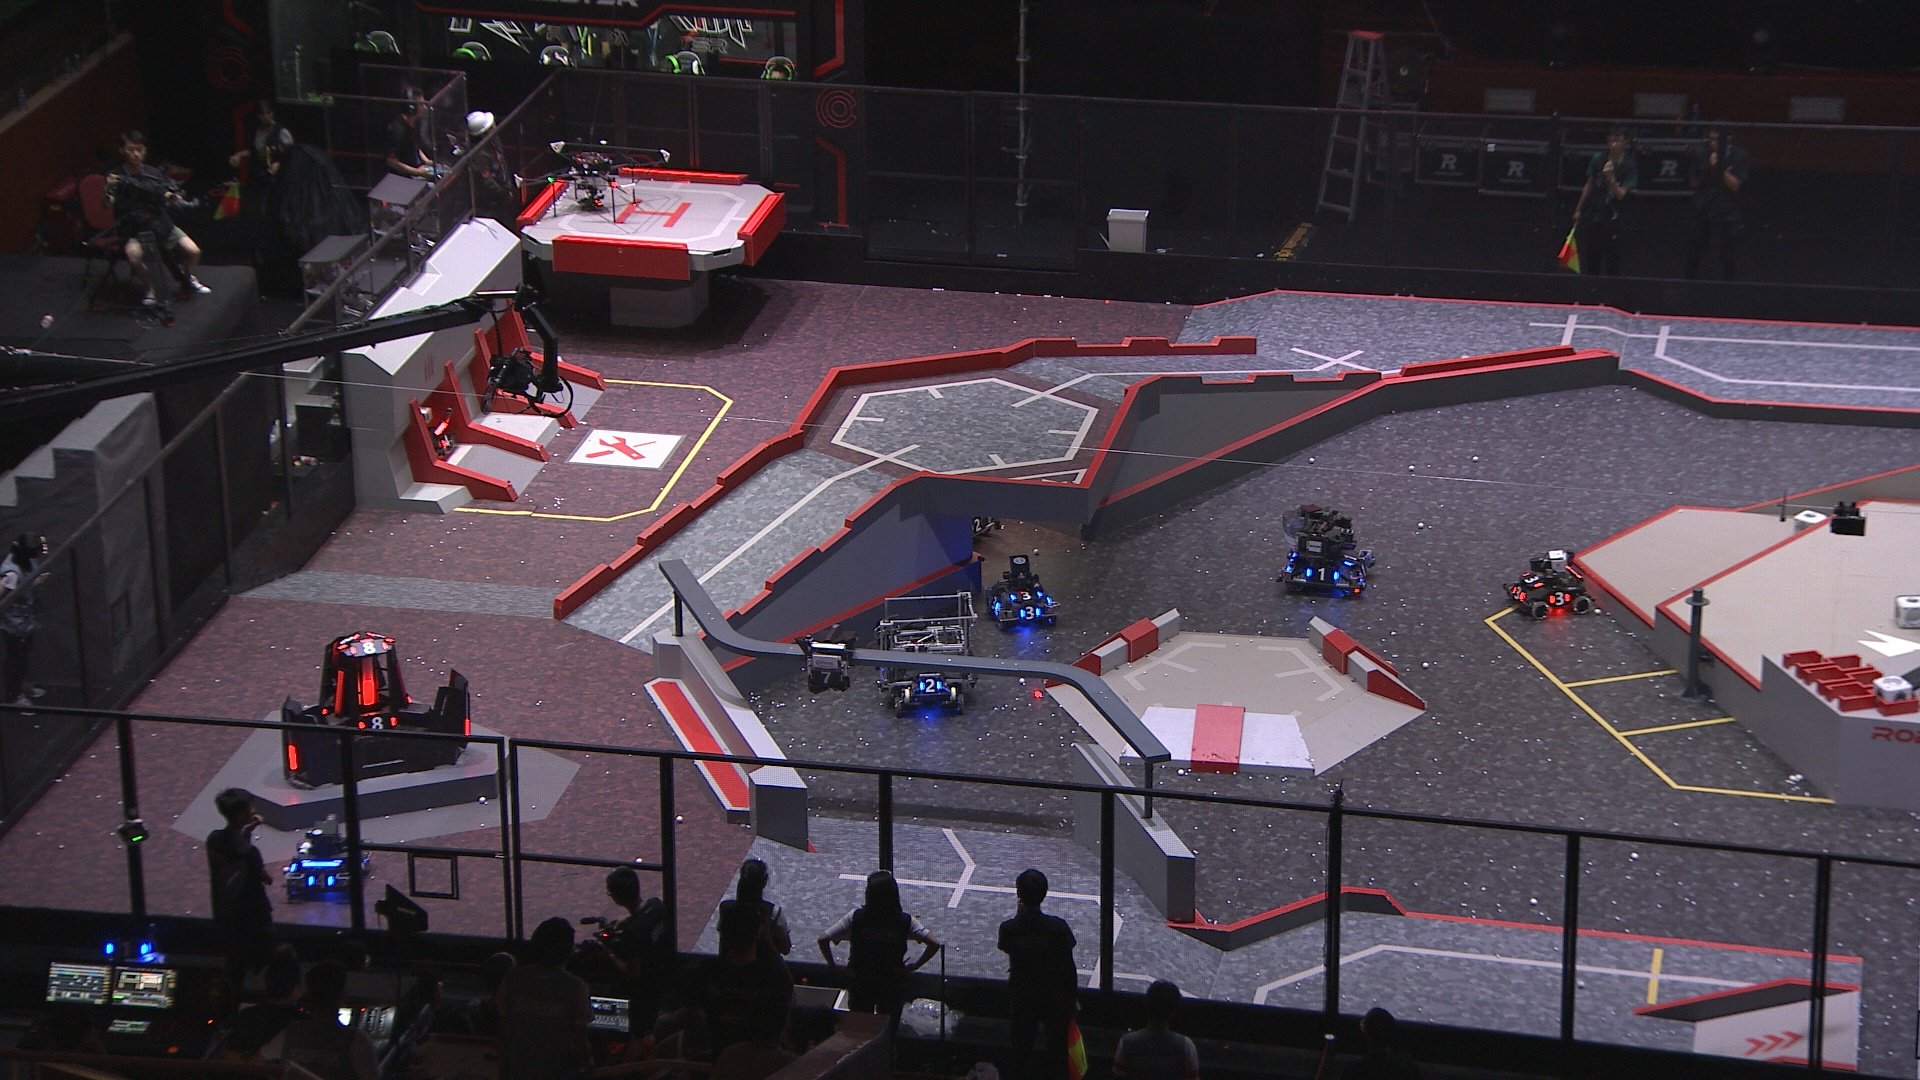armor: (357, 713, 400, 732), (356, 675, 376, 709), (1304, 564, 1338, 583), (351, 640, 390, 655), (332, 669, 345, 716), (305, 873, 338, 891), (811, 670, 841, 687), (284, 742, 301, 771), (1007, 589, 1044, 603), (916, 676, 944, 694), (1015, 605, 1043, 621), (1547, 589, 1572, 607), (1520, 571, 1544, 588), (1510, 584, 1527, 604), (1342, 553, 1360, 570), (462, 716, 473, 740), (438, 433, 452, 451), (1358, 560, 1370, 582), (969, 518, 986, 533), (988, 597, 1002, 613)
base: (280, 632, 476, 793)
car: (873, 589, 978, 717), (905, 444, 1004, 541), (1275, 505, 1375, 597), (284, 812, 376, 905), (1503, 549, 1594, 621), (982, 553, 1062, 632), (385, 406, 456, 463)
watcher: (798, 624, 858, 694)
